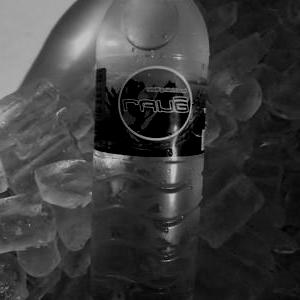bottle: (86, 0, 212, 300)
